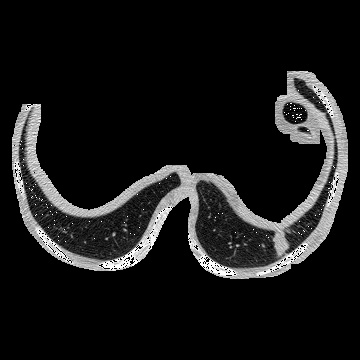PN: (271, 233, 291, 253)
